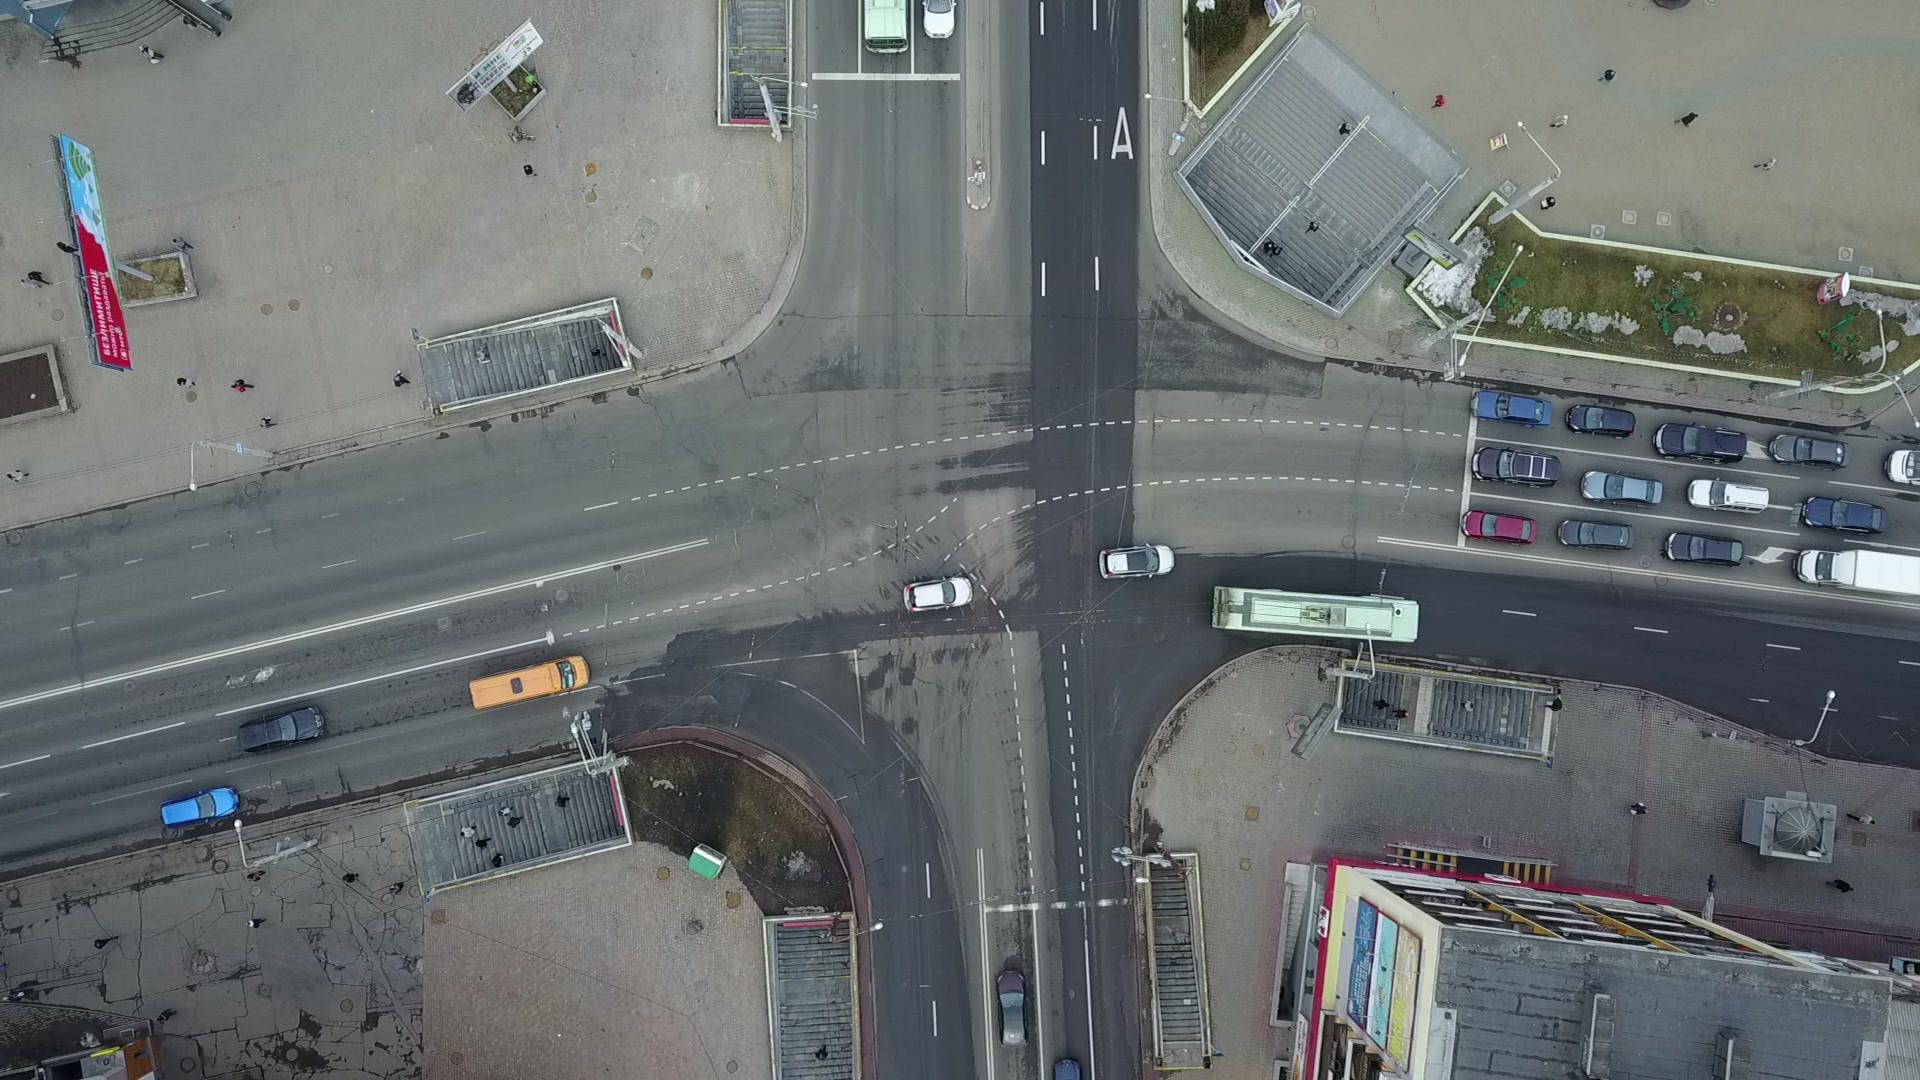car: (1652, 421, 1749, 464), (236, 705, 324, 752), (1470, 444, 1561, 488), (1799, 493, 1888, 535), (157, 786, 240, 828), (1767, 431, 1849, 472), (1581, 469, 1663, 509), (1687, 476, 1768, 514), (1472, 389, 1553, 426), (1564, 402, 1636, 440), (1460, 509, 1538, 545), (1557, 517, 1635, 553), (994, 968, 1029, 1048), (1098, 543, 1175, 579), (902, 576, 975, 611)
